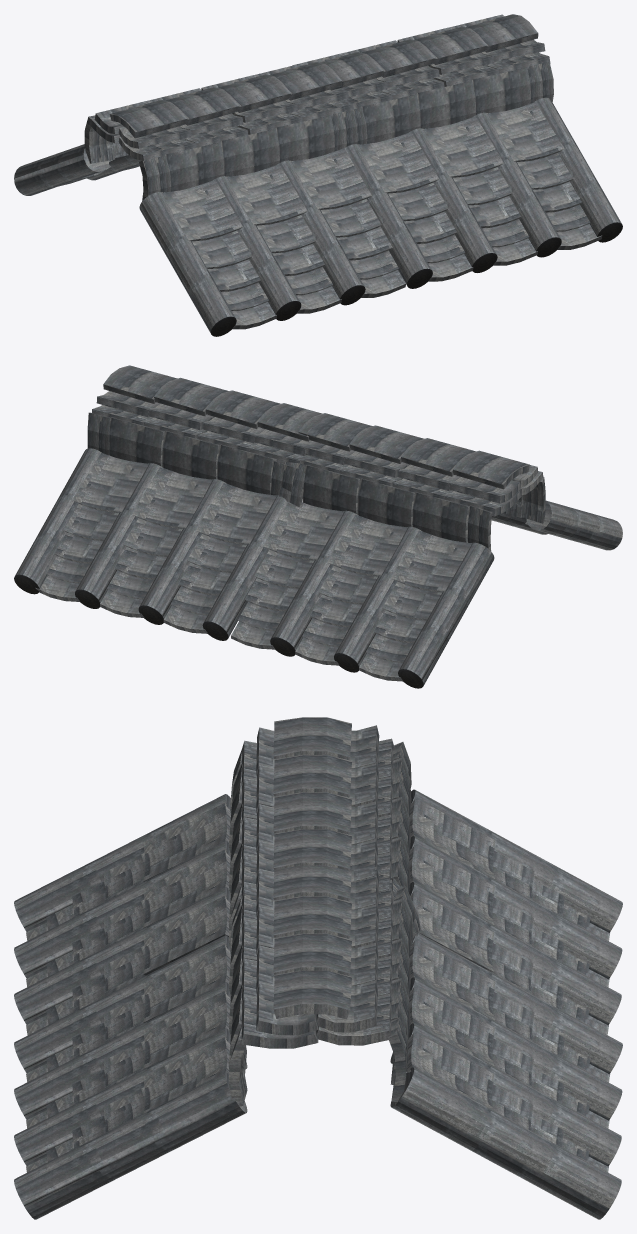
File: Gate_06.fbx
The picture shows the model from 3 angles, top to bottom: view 1: azimuth 30°, elevation 25°; view 2: azimuth 150°, elevation 25°; view 3: azimuth 270°, elevation 25°; orthographic projection. The views are drawn at different scales.
Parts seen in each view (by area): view 1: pCylinder016.133; view 2: pCylinder016.133; view 3: pCylinder016.133.
Part boxes in pixels (x1,y1,x2,y2): pCylinder016.133: (14,14,622,336); pCylinder016.133: (14,365,622,688); pCylinder016.133: (14,717,622,1219).
Bounding box in the file's own units: 5.76 × 2.02 × 4.99.
